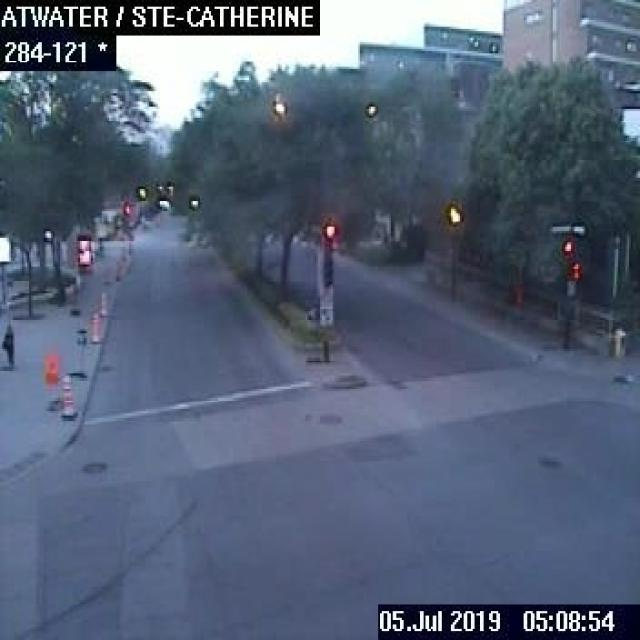construction: (42, 354, 58, 410), (58, 373, 75, 418), (87, 311, 98, 340), (98, 290, 106, 315)
pedestrian: (0, 320, 16, 371)
